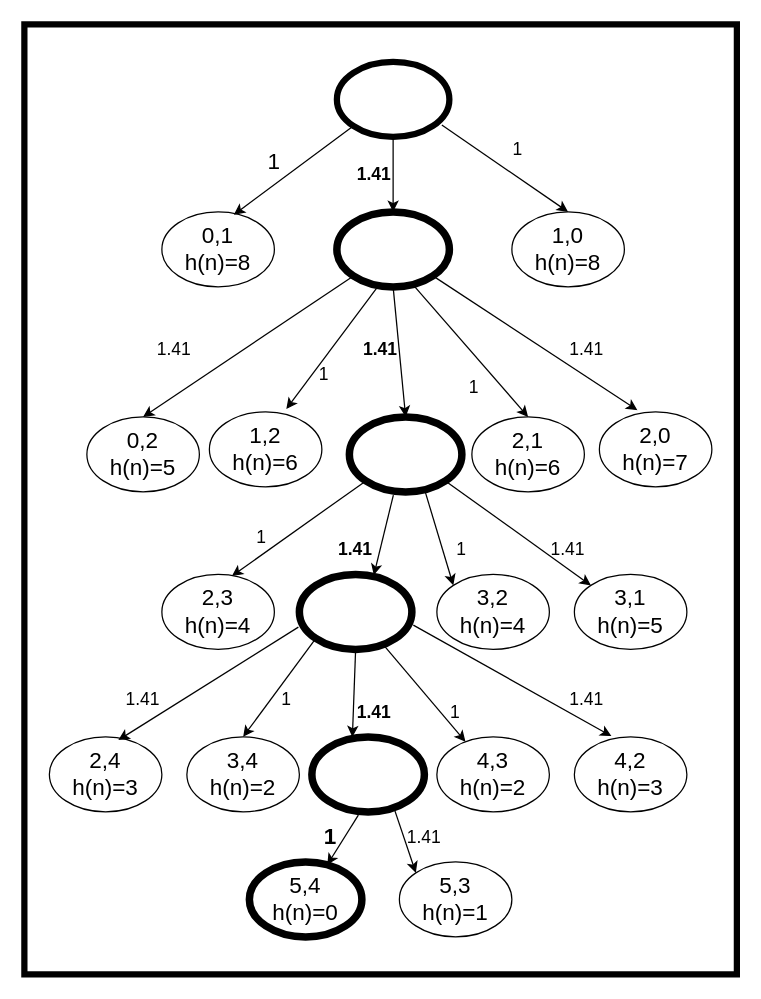
This 761x999 diagram has some shape labels left out. The box of each missing label's shape, as (x1, y1, x2, y2) in pixels:
1,1 h(n)=7: (332, 208, 452, 290)
2,2 h(n)=5: (345, 412, 465, 495)
3,3 h(n)=3: (295, 570, 415, 652)
4,4 h(n)=1: (308, 732, 428, 815)
start (0,0): (333, 58, 452, 139)
